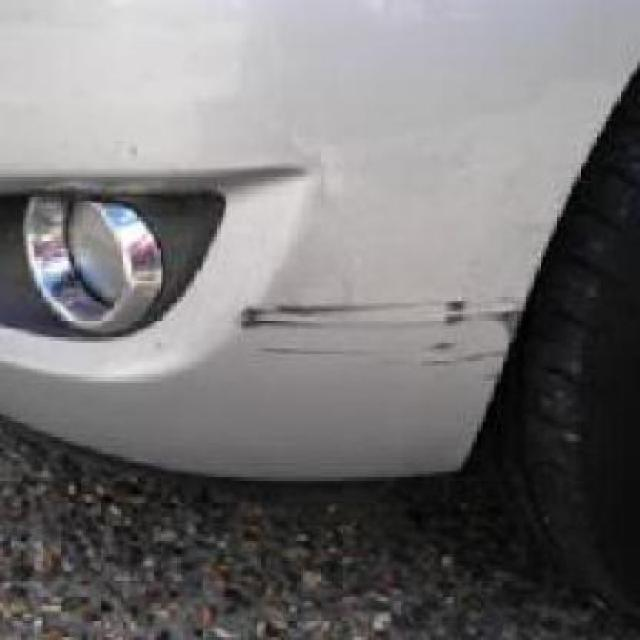dent-or-scratch: (240, 293, 514, 372)
